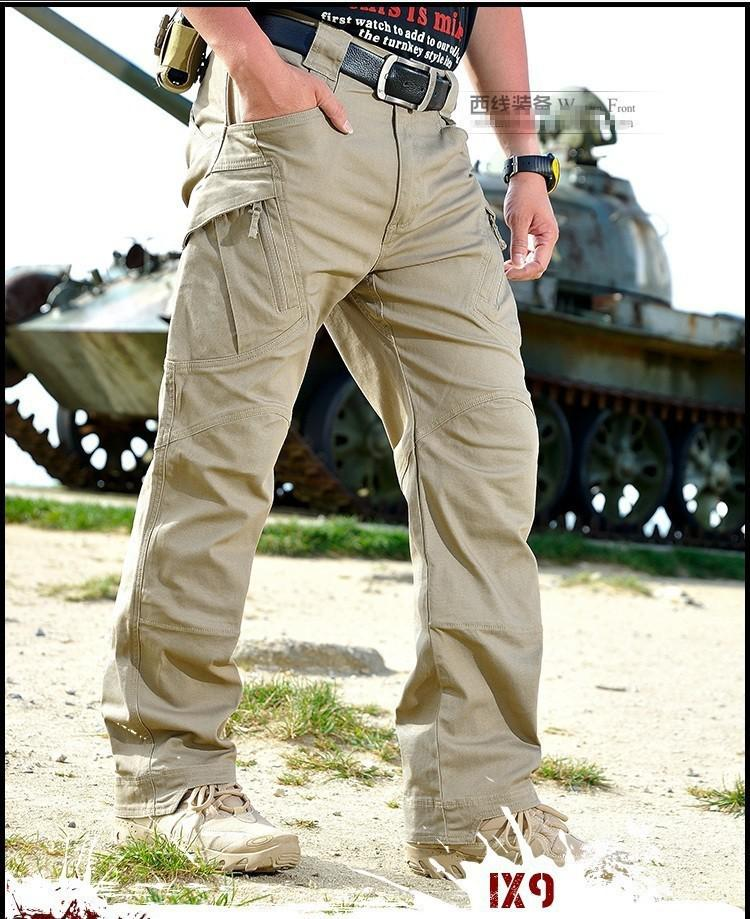pants: (99, 40, 545, 845)
